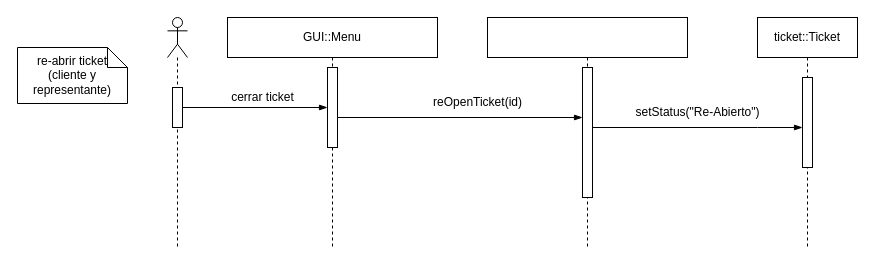
Some shapes in this 875 by 265 pixel diagram are drawn without their labels. The box of each missing label's shape, as (x1, y1, x2, y2) in pixels:
cliente / representante: (166, 16, 188, 248)
TC::TicketController: (486, 16, 688, 248)
